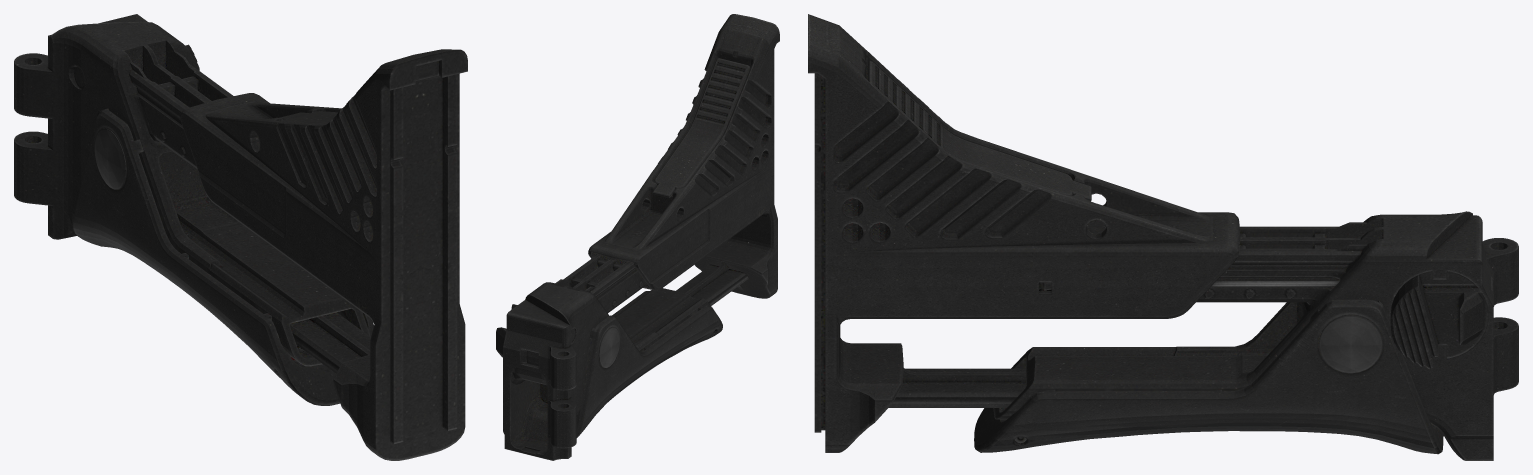
The picture shows the model from 3 angles, left to right: view 1: azimuth 30°, elevation 25°; view 2: azimuth 150°, elevation 25°; view 3: azimuth 270°, elevation 25°; orthographic projection. The views are drawn at different scales.
Parts seen in each view (by area): view 1: TW_67110d06723c2733410161e8_PZ_Import; view 2: TW_67110d06723c2733410161e8_PZ_Import; view 3: TW_67110d06723c2733410161e8_PZ_Import.
Part boxes in pixels (x1=…): TW_67110d06723c2733410161e8_PZ_Import: x1=14, y1=14, x2=467, y2=460; TW_67110d06723c2733410161e8_PZ_Import: x1=496, y1=14, x2=779, y2=460; TW_67110d06723c2733410161e8_PZ_Import: x1=808, y1=14, x2=1518, y2=460.
Size of the model in its own units: 0.0292 by 0.1303 by 0.0843.
1 material, 1 textured.
